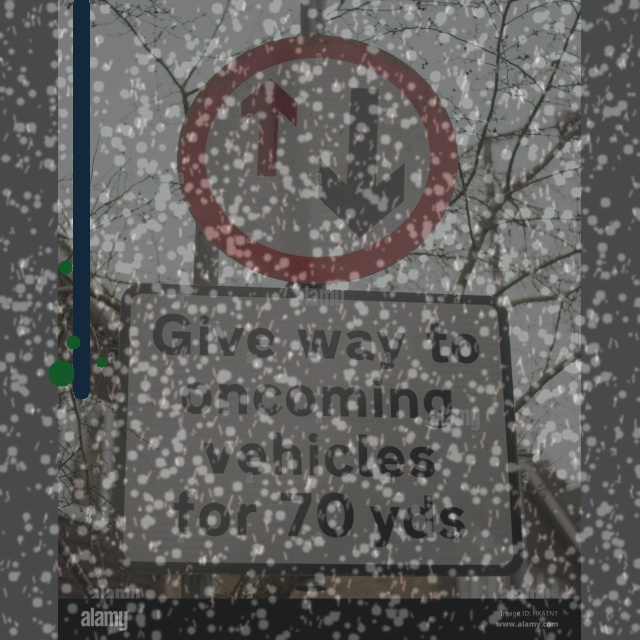Priority_for_Oncoming_Traffic: (179, 34, 460, 281)
